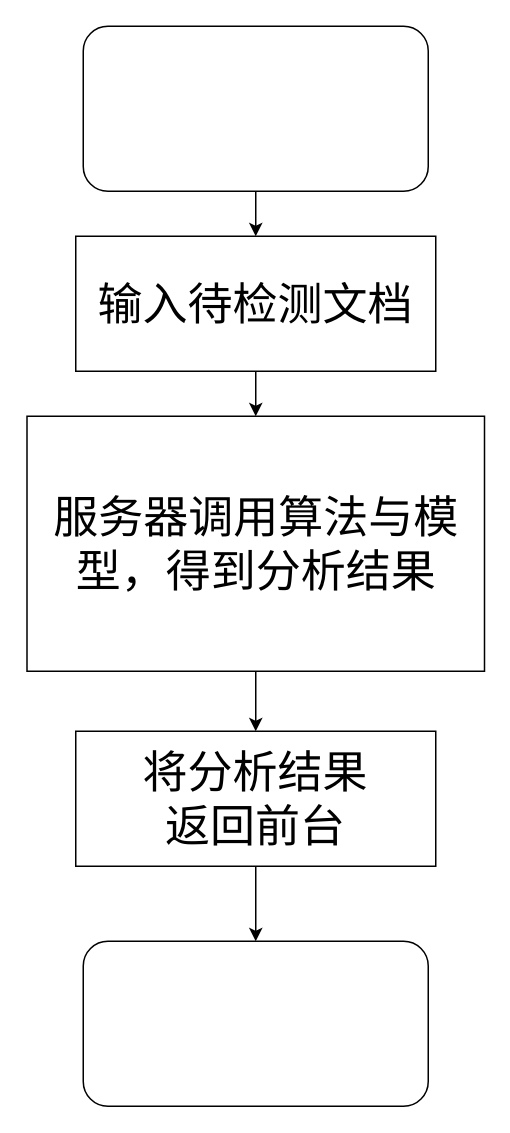
Some shapes in this 510 by 1133 pixel diagram are drawn without their labels. Here are the shapes that lost their labels. From the top down, the centre of each, then its label:
(255,108): 开始
(255,1023): 结束
